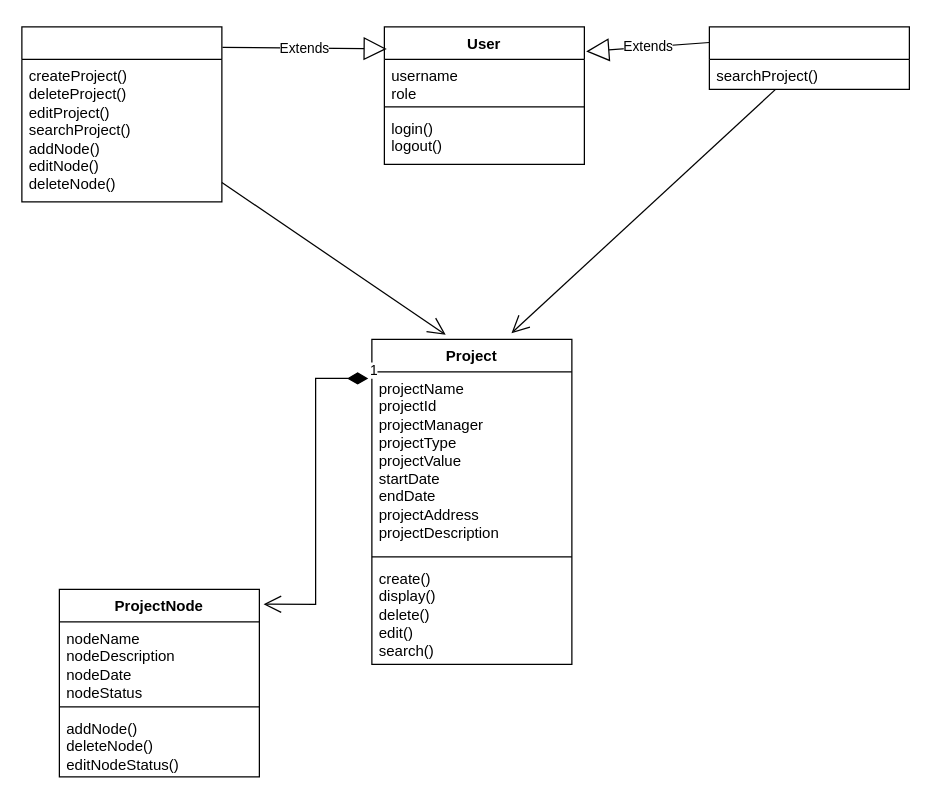
Some shapes in this 931 by 803 pixel diagram are drawn without their labels. Here are the shapes that lost their labels. From the top down, the box of each, then its label:
(708, 26, 909, 89): Employee
(21, 26, 222, 202): ProjectManager
